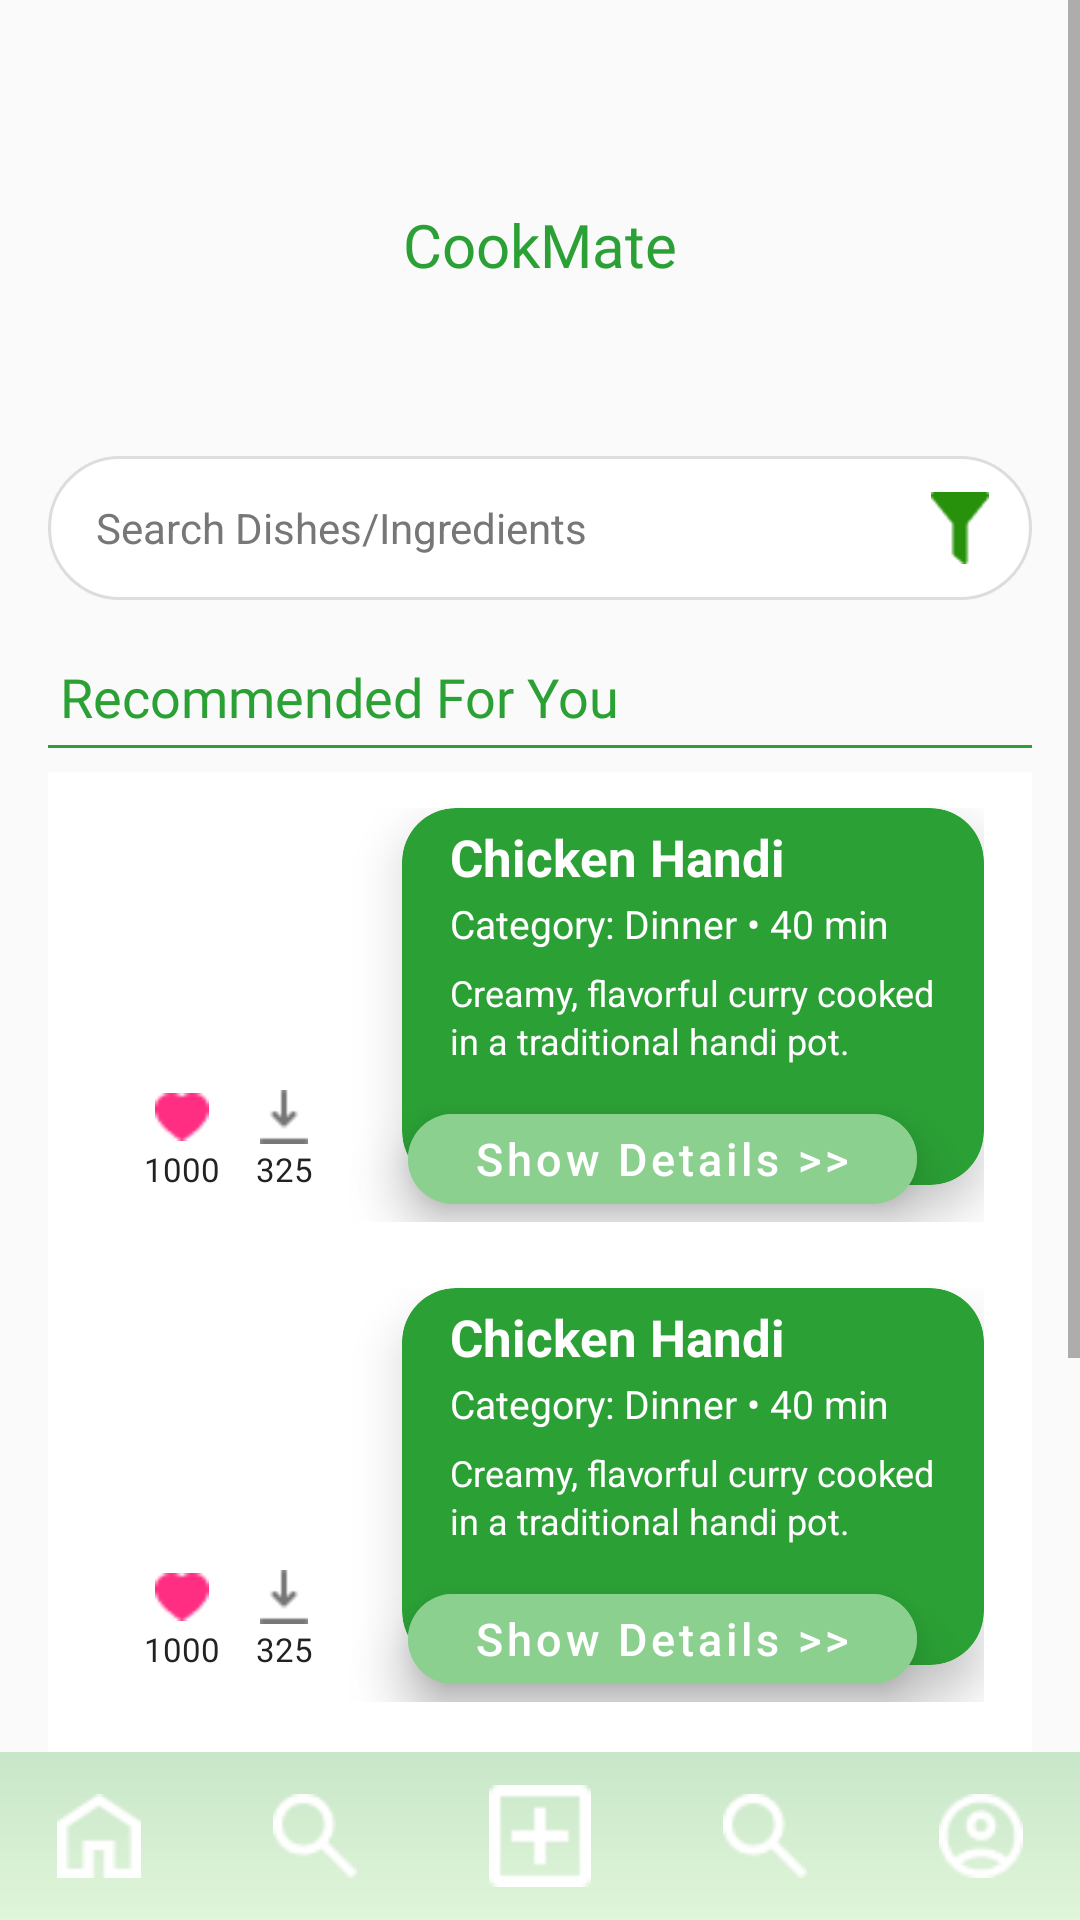

Named icons in this screenshot (1080 x 1920) and their centers, [x,y]:
add: [540,1836]
download: [284,1117], [284,1597]
filter: [960,528]
hearts: [182,1117], [182,1597]
home: [99,1836]
profile: [981,1836]
search: [314,1835], [764,1835]
